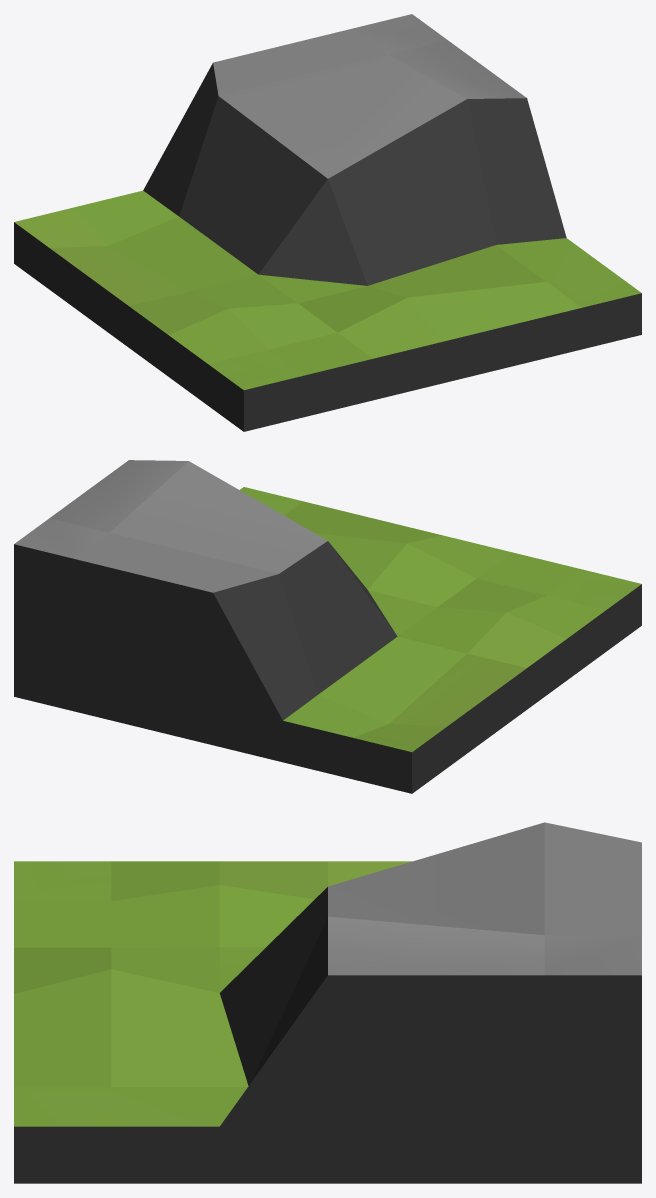
The model's file is rock_angle.fbx.
The picture shows the model from 3 angles, top to bottom: view 1: azimuth 30°, elevation 25°; view 2: azimuth 150°, elevation 25°; view 3: azimuth 270°, elevation 25°; orthographic projection. The views are drawn at different scales.
Visible parts, largest first — view 1: rock; view 2: rock; view 3: rock.
Boxes of the visible parts, x1=… form: rock: x1=14, y1=14, x2=641, y2=431; rock: x1=14, y1=460, x2=641, y2=793; rock: x1=14, y1=822, x2=641, y2=1183.
Size of the model in its own units: 200 by 200 by 79.79.
Materials: 1 (1 with a texture image).
